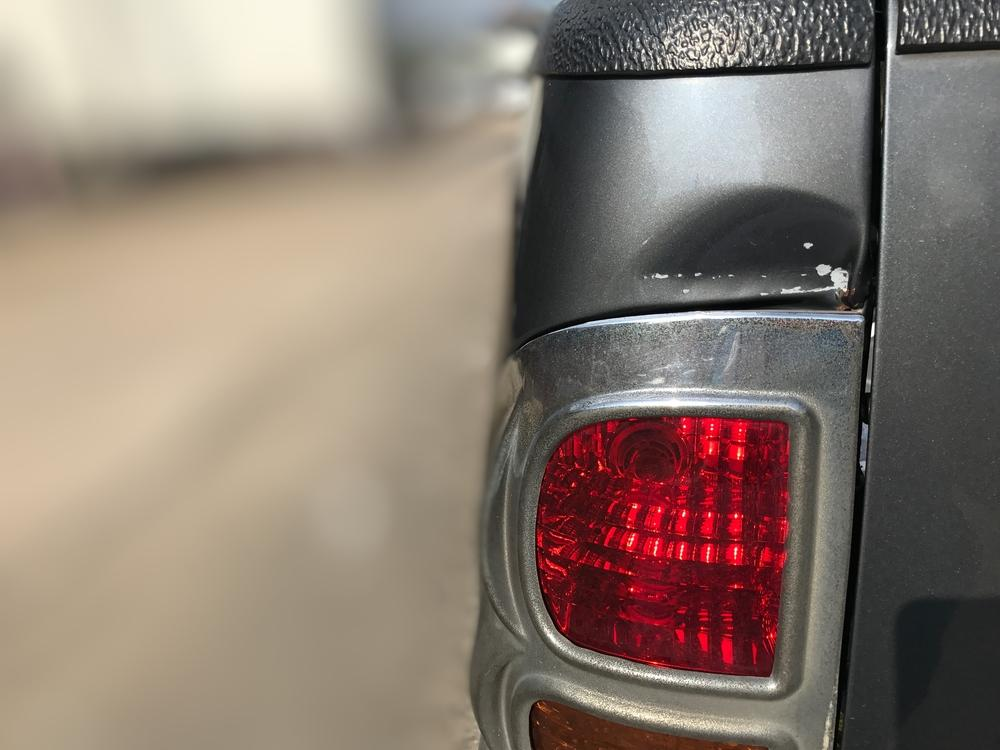dent: (636, 184, 865, 299)
